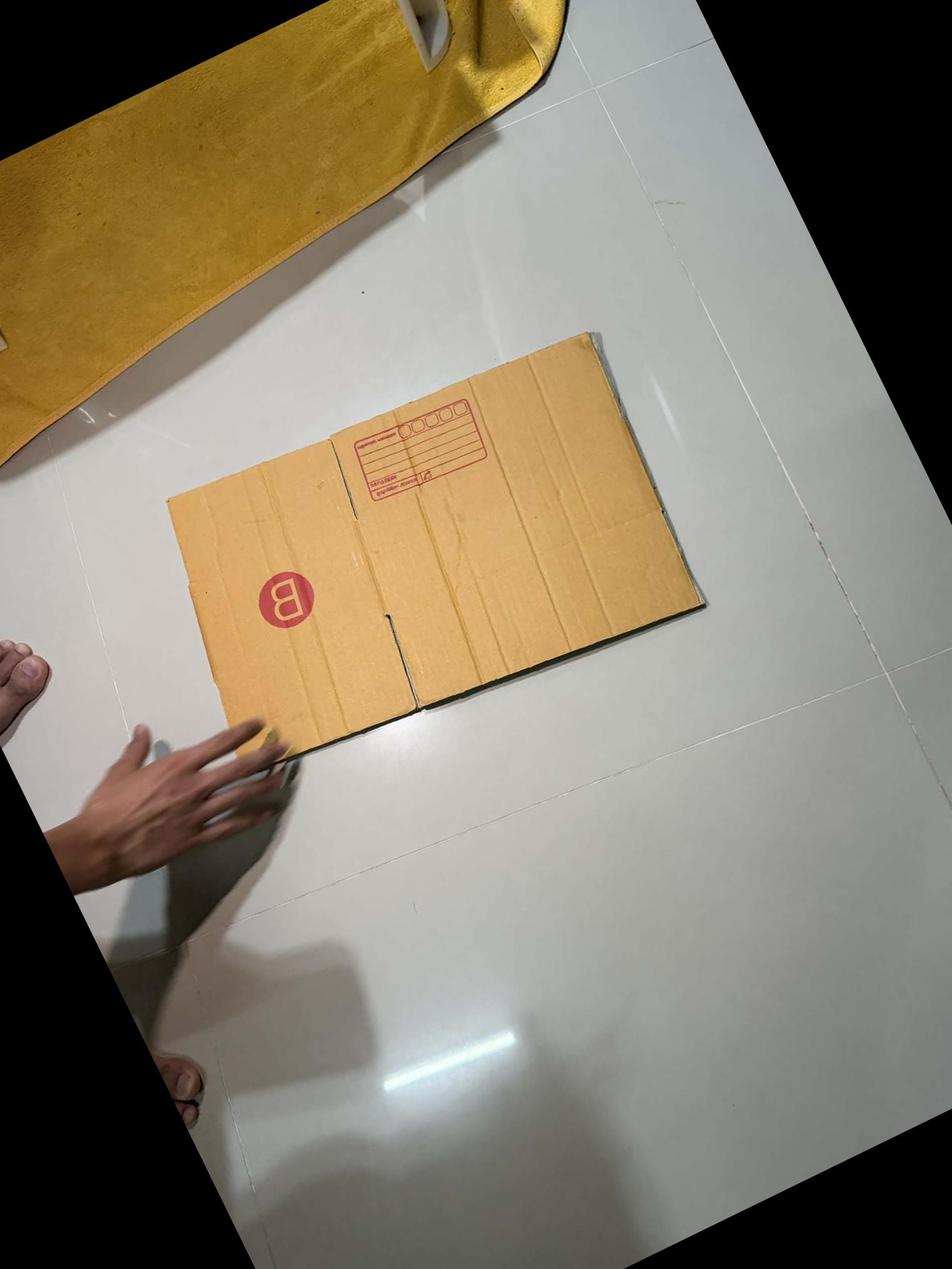box: (343, 383, 496, 513), (248, 559, 325, 639)
class0: (124, 304, 730, 814)
